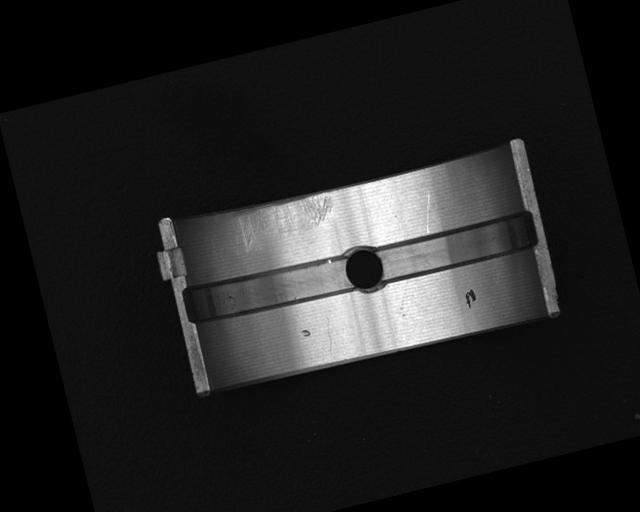blot: (462, 286, 478, 309)
bruise: (299, 327, 311, 338)
gap: (180, 247, 359, 331), (371, 206, 543, 286)
hole: (339, 238, 389, 297)
nick: (417, 188, 440, 234), (322, 316, 336, 351)
scratch: (226, 187, 340, 254)
